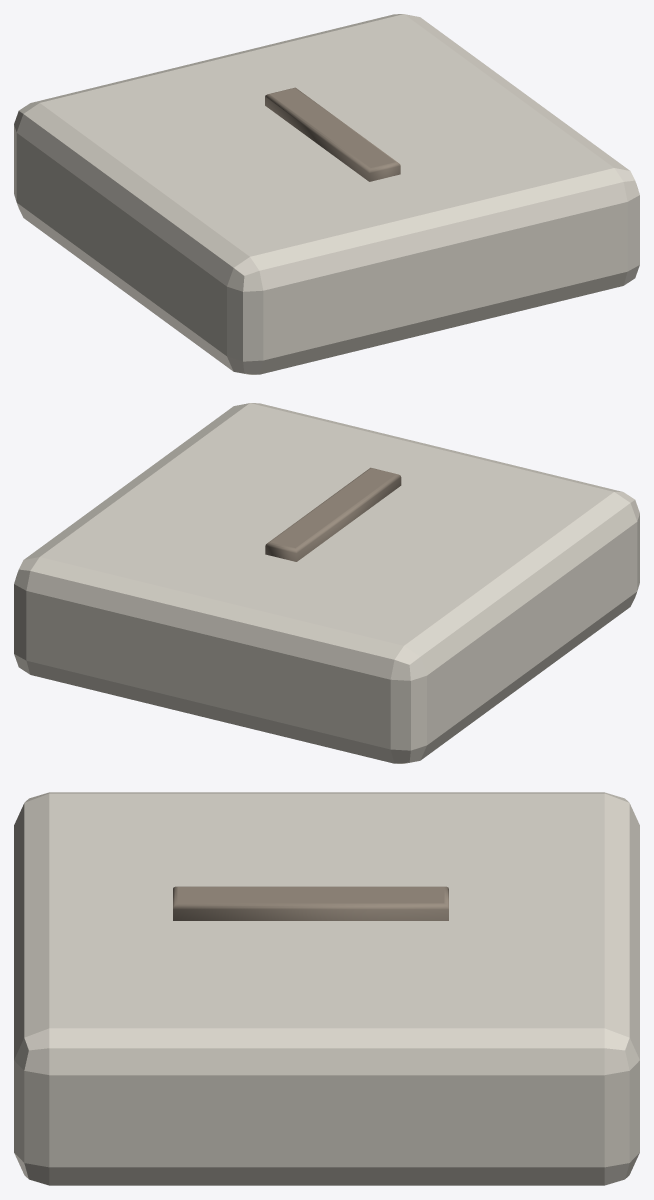
File: Tile_1.fbx
3 renders of one model, top to bottom at view 1: azimuth 30°, elevation 25°; view 2: azimuth 150°, elevation 25°; view 3: azimuth 270°, elevation 25°, orthographic. The views are drawn at different scales.
Visible parts, largest first — view 1: Tile_1; view 2: Tile_1; view 3: Tile_1.
Boxes of the visible parts, x1,y1,x2,y2 form: Tile_1: (14,14,639,374); Tile_1: (14,403,639,763); Tile_1: (14,792,639,1185).
Bounding box in the file's own units: 80 × 24.2 × 80.
